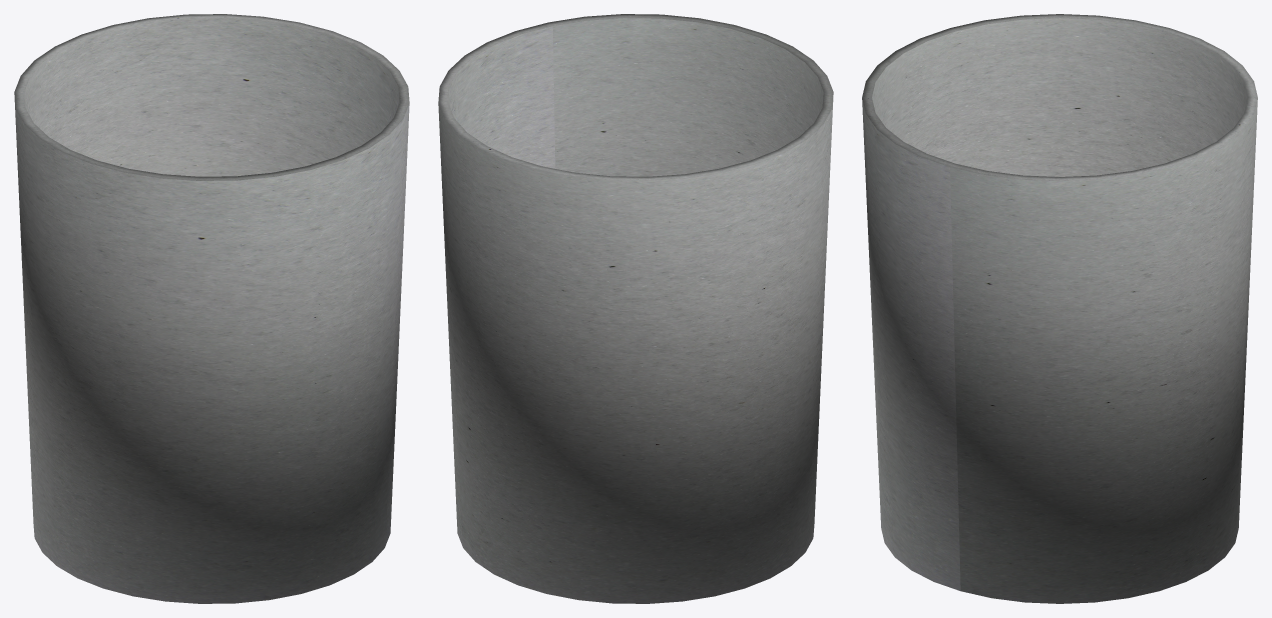
File: trashcan.fbx
The picture shows the model from 3 angles, left to right: view 1: azimuth 30°, elevation 25°; view 2: azimuth 150°, elevation 25°; view 3: azimuth 270°, elevation 25°; orthographic projection.
Visible parts, largest first — view 1: Cylinder; view 2: Cylinder; view 3: Cylinder.
Boxes of the visible parts, x1,y1,x2,y2 form: Cylinder: (14,14,409,603); Cylinder: (438,14,833,603); Cylinder: (862,14,1257,603).
Bounding box in the file's own units: 0.25 × 0.3002 × 0.25.
